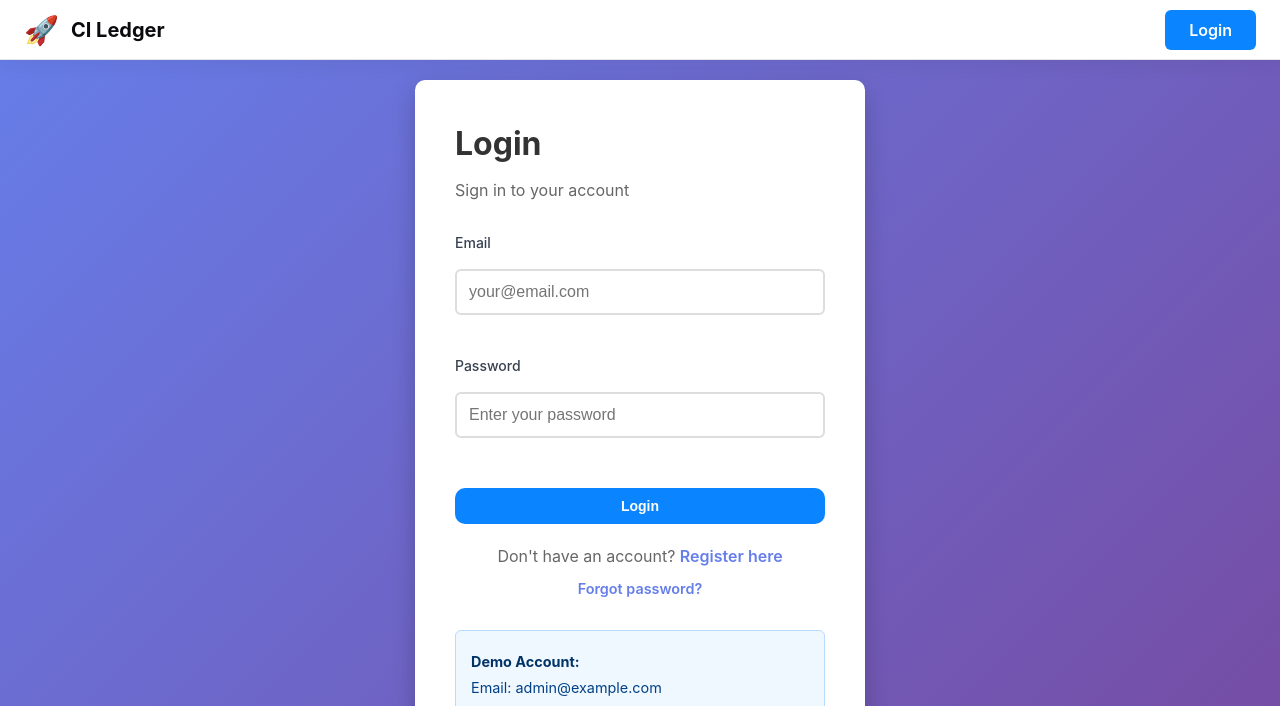
Test: LoginPage Component › displays error message on failed login
In the field with placeholder "your@email.com": [640, 292] box x1=455 y1=269 x2=825 y2=315, type "test@example.com"
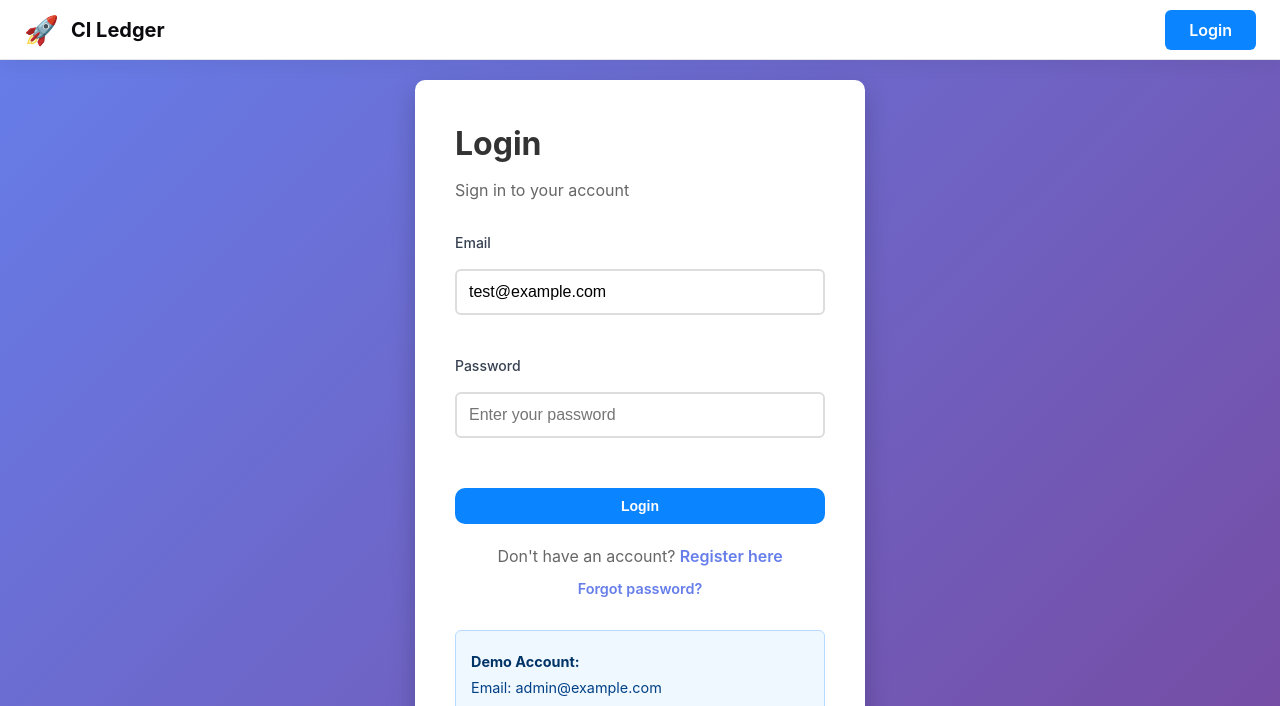
In the password field with placeholder "Enter your password": [640, 415] box x1=455 y1=392 x2=825 y2=438, type "wrongpassword"
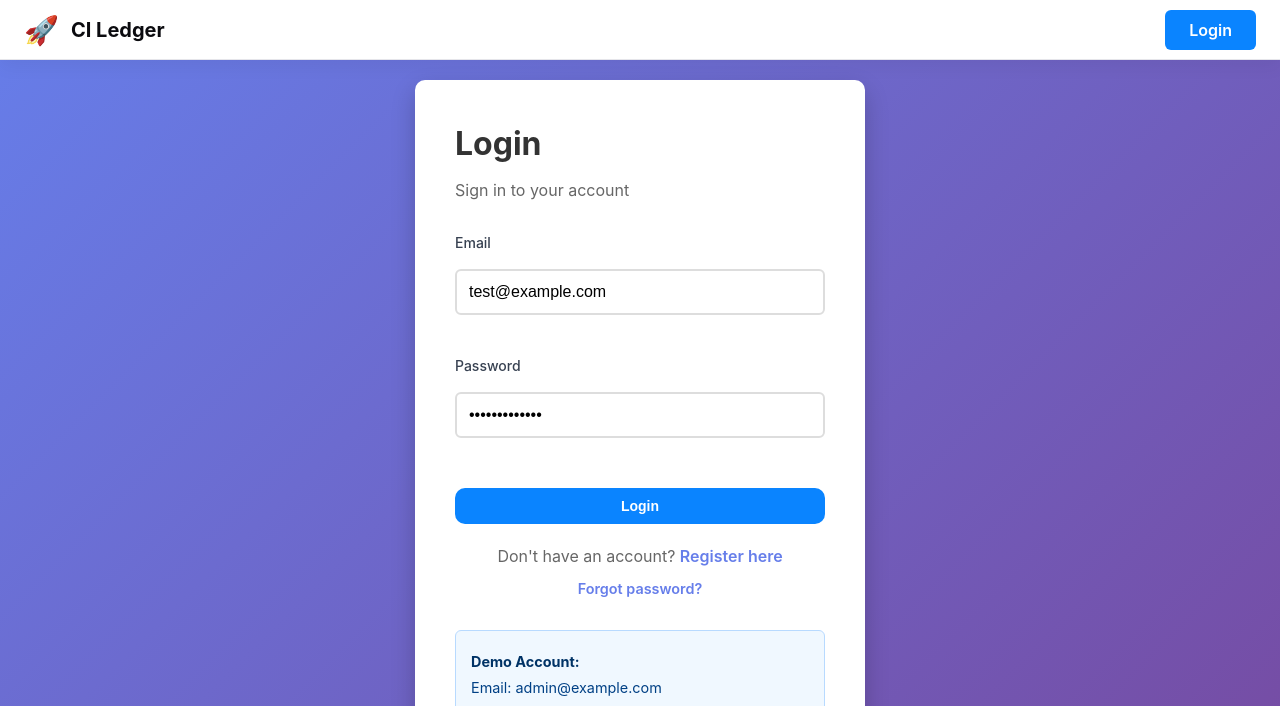
Click the button "Login": [640, 506] box x1=455 y1=488 x2=825 y2=524
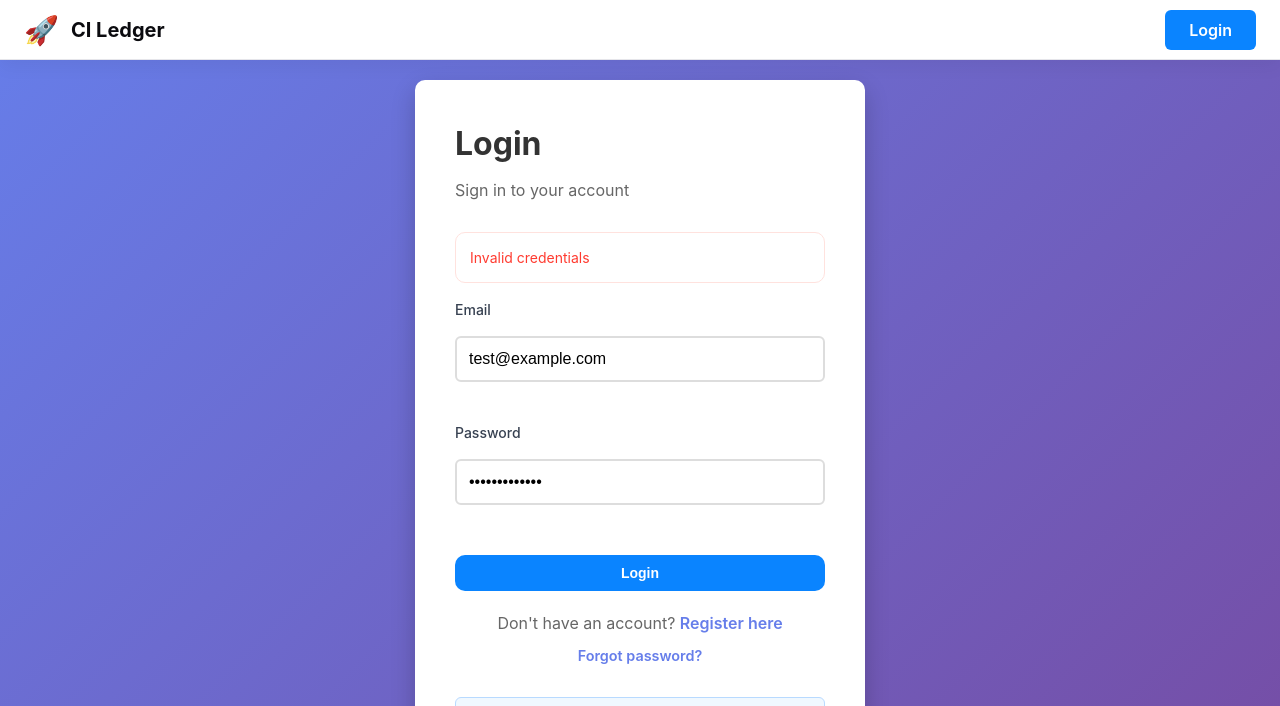
Expected: the text "Invalid credentials" is shown, x1=455 y1=232 x2=825 y2=283
